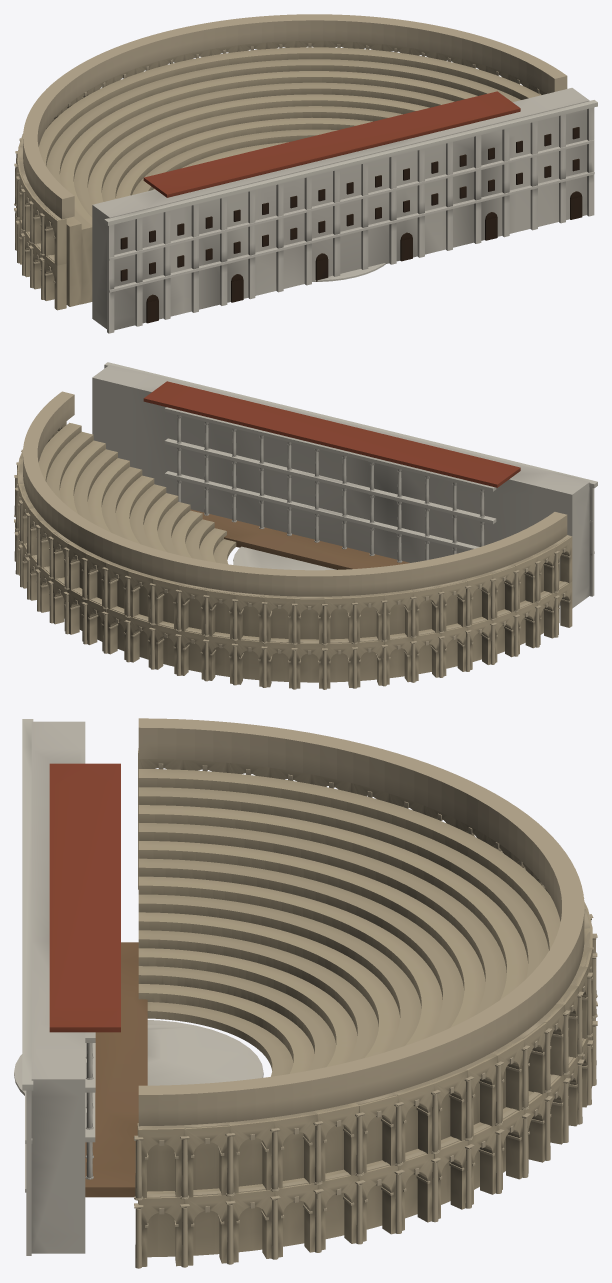
File: theatre-of-marcellus.glb
3 views of the same model, one above another, from view 1: azimuth 30°, elevation 25°; view 2: azimuth 150°, elevation 25°; view 3: azimuth 270°, elevation 25° (orthographic). The views are drawn at different scales.
Parts seen in each view (by area): view 1: p2_stage, p0_cavea, p1_facade; view 2: p2_stage, p1_facade, p0_cavea; view 3: p0_cavea, p1_facade, p2_stage.
Part boxes in pixels (box(x1,y1,x2,y2)): p2_stage: box(92, 88, 597, 333); p0_cavea: box(38, 47, 540, 306); p1_facade: box(14, 14, 567, 310); p2_stage: box(92, 362, 597, 608); p1_facade: box(14, 391, 572, 689); p0_cavea: box(38, 422, 559, 682); p0_cavea: box(14, 769, 560, 1257); p1_facade: box(133, 718, 597, 1268); p2_stage: box(22, 719, 147, 1255).
Bounding box in the file's own units: 134 × 28.86 × 85.16.
